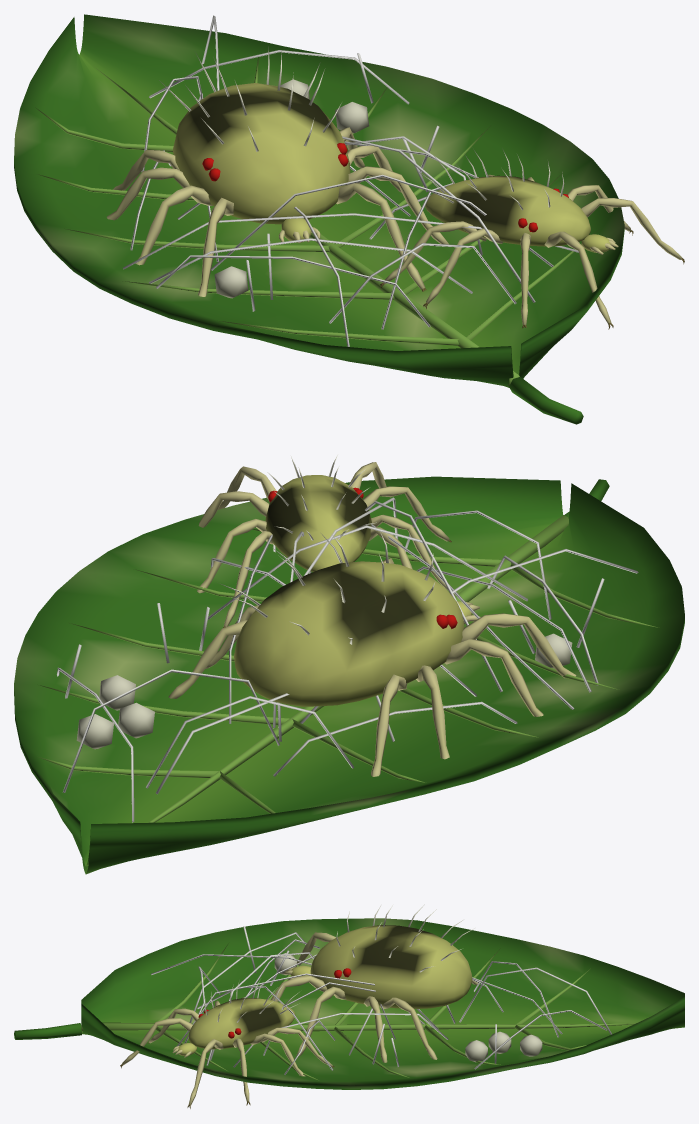
The model's file is SpiderMite.fbx.
3 views of the same model, one above another, from view 1: azimuth 30°, elevation 25°; view 2: azimuth 150°, elevation 25°; view 3: azimuth 270°, elevation 25° (orthographic). The views are drawn at different scales.
Visible parts, largest first — view 1: SpiderMite; view 2: SpiderMite; view 3: SpiderMite.
Part boxes in pixels (x1,y1,x2,y2): SpiderMite: [14, 14, 684, 424]; SpiderMite: [14, 455, 684, 874]; SpiderMite: [14, 904, 684, 1108].
Bounding box in the file's own units: 1.02 × 0.3227 × 1.72.
